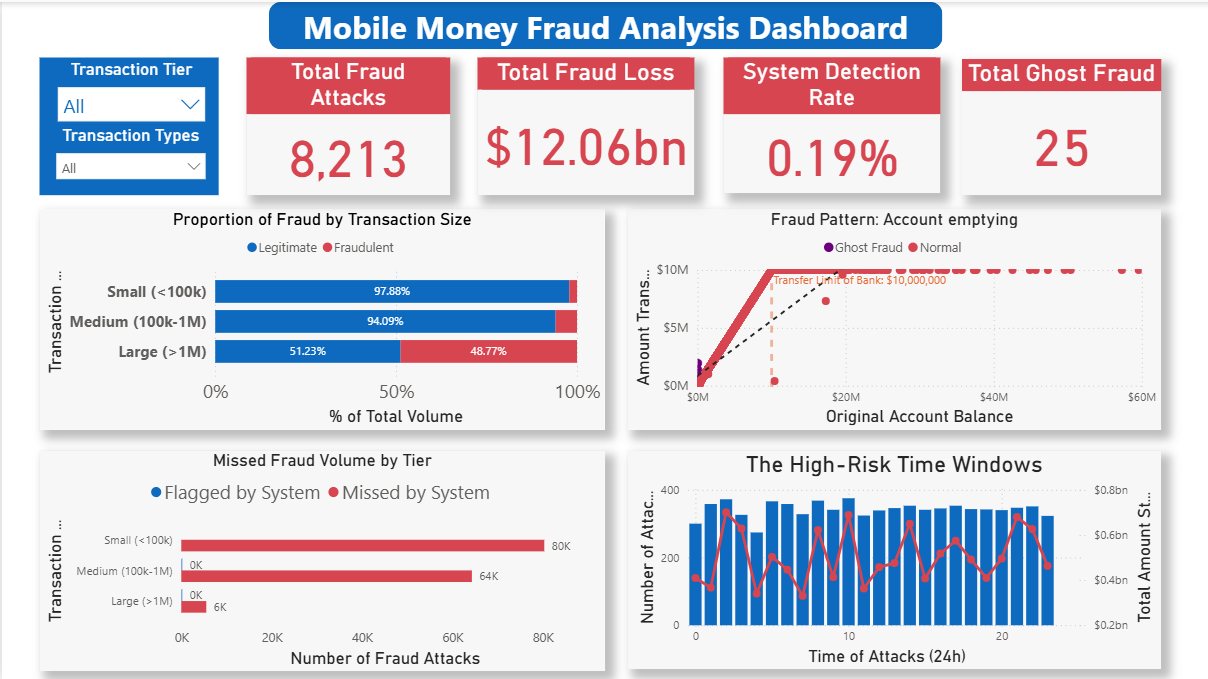

The page's visual inventory and layout, read from the dashboard file:
{"tool":"powerbi","page":{"name":"Page 1","canvas":[1280,720],"ordinal":0},"visuals":[{"type":"shape","box":[283,0,714,50],"z":0},{"type":"card","title":"Total Fraud Attacks","fields":{"Values":["Sum(fraud_analytics_data.isfraud)"]},"box":[259.5,58.6,216,146],"z":1000},{"type":"card","title":"Total Fraud Loss","fields":{"Values":["fraud_analytics_data.Total Fraud Loss"]},"box":[505,58.6,230,146],"z":2000},{"type":"card","title":"System Detection Rate","fields":{"Values":["fraud_analytics_data.Detection Rate"]},"box":[764.5,59.6,230,144],"z":3000},{"type":"shape","box":[40,58.6,190,146],"z":3500},{"type":"slicer","title":"Transaction Tier","fields":{"Values":["fraud_analytics_data.Transaction Tier"]},"box":[50,60,176,66],"z":4000},{"type":"slicer","title":"Transaction Types","fields":{"Values":["fraud_analytics_data.transaction_type"]},"box":[48,130,178,66],"z":5000},{"type":"card","title":"Total Ghost Fraud","fields":{"Values":["fraud_analytics_data.Ghost Fraud Count"]},"box":[1018,60.4,211.6,144.7],"z":6000},{"type":"hundredPercentStackedBarChart","title":"Proportion of Fraud by Transaction Size","fields":{"Category":["fraud_analytics_data.Transaction Tier"],"Y":["CountNonNull(fraud_analytics_data.isfraud)"],"Series":["fraud_analytics_data.Fraud Label"]},"box":[39.8,219.5,599.7,233.8],"z":7000},{"type":"clusteredBarChart","title":"Missed Fraud Volume by Tier","fields":{"Category":["fraud_analytics_data.Transaction Tier"],"Y":["CountNonNull(fraud_analytics_data.isfraud)"],"Series":["fraud_analytics_data.System Status"]},"box":[40,476,600,234],"z":8000},{"type":"scatterChart","title":"Fraud Pattern: Account emptying","fields":{"Y":["Sum(fraud_analytics_data.amount)"],"Category":["fraud_analytics_data.nameorig"],"X":["Sum(fraud_analytics_data.oldbalanceorg)"],"Series":["fraud_analytics_data.Ghost Transaction"]},"box":[664,220,566,234],"z":9000},{"type":"lineClusteredColumnComboChart","title":"The High-Risk Time Windows","fields":{"Category":["fraud_analytics_data.Hour of Day"],"Y":["CountNonNull(fraud_analytics_data.isfraud)"],"Y2":["Sum(fraud_analytics_data.amount)"]},"box":[664,476,566,232],"z":11000}]}

Visuals, with their boxes in screenshot pixels (x1, y1, x2, y2), scaled from the page's 1280x720 canvas onto the 1208x679 screenshot:
shape: bbox(267, 0, 941, 47)
"Total Fraud Attacks" card: bbox(245, 55, 449, 193)
"Total Fraud Loss" card: bbox(477, 55, 694, 193)
"System Detection Rate" card: bbox(721, 56, 939, 192)
shape: bbox(38, 55, 217, 193)
"Transaction Tier" slicer: bbox(47, 57, 213, 119)
"Transaction Types" slicer: bbox(45, 123, 213, 185)
"Total Ghost Fraud" card: bbox(961, 57, 1160, 193)
"Proportion of Fraud by Transaction Size" hundredPercentStackedBarChart: bbox(38, 207, 604, 427)
"Missed Fraud Volume by Tier" clusteredBarChart: bbox(38, 449, 604, 670)
"Fraud Pattern: Account emptying" scatterChart: bbox(627, 207, 1161, 428)
"The High-Risk Time Windows" lineClusteredColumnComboChart: bbox(627, 449, 1161, 668)
